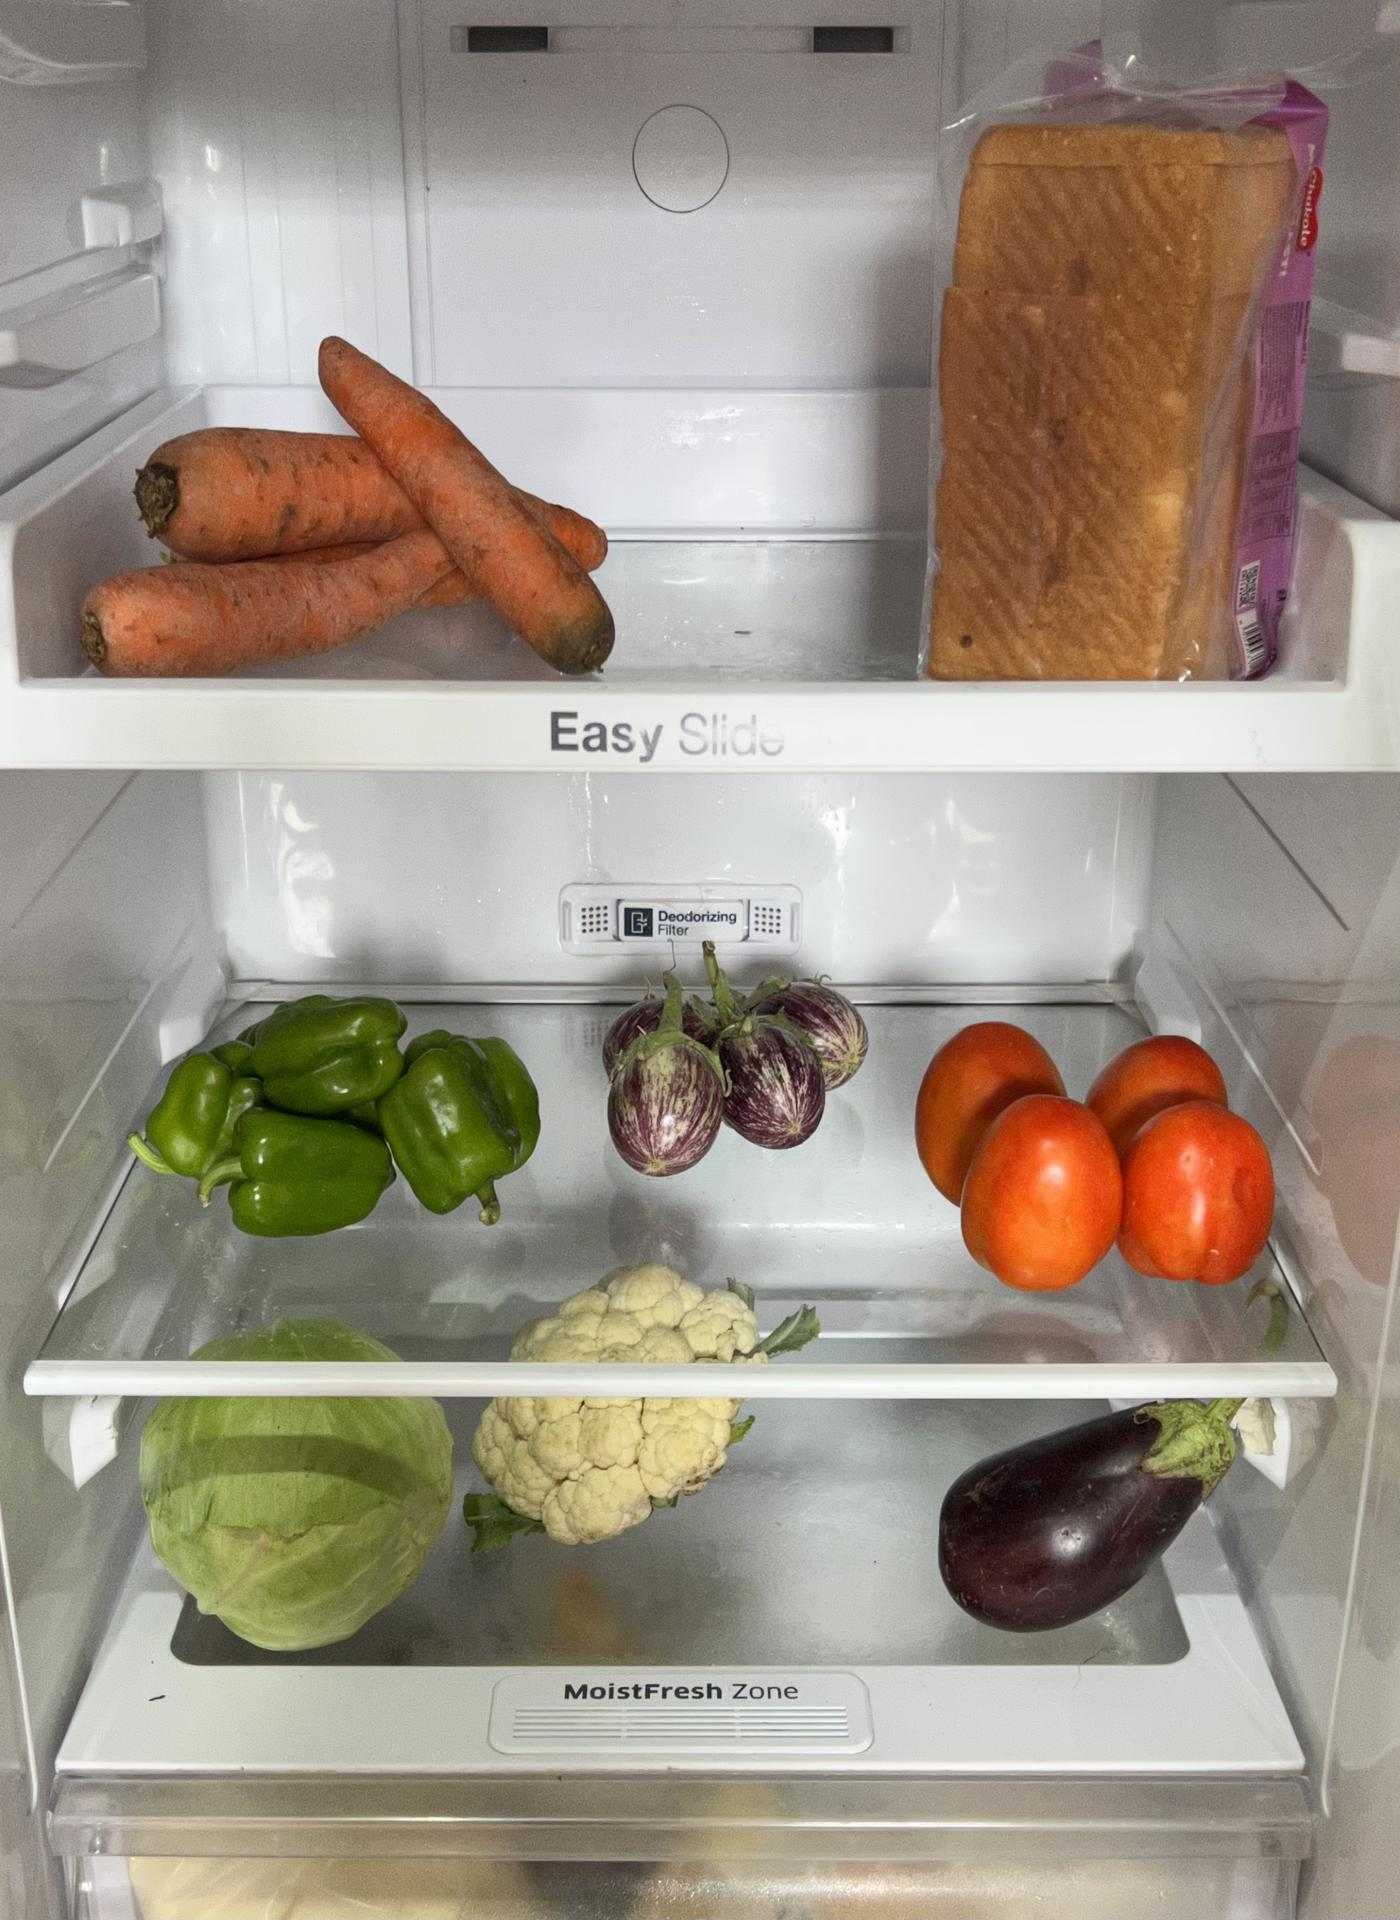bread: (899, 80, 1330, 681)
cabbage: (134, 1400, 453, 1644)
capsicum: (140, 991, 537, 1237)
carrots: (85, 429, 622, 677)
cauliflower: (479, 1269, 757, 1537), (942, 1394, 1230, 1628)
tomato: (917, 1015, 1270, 1286)
